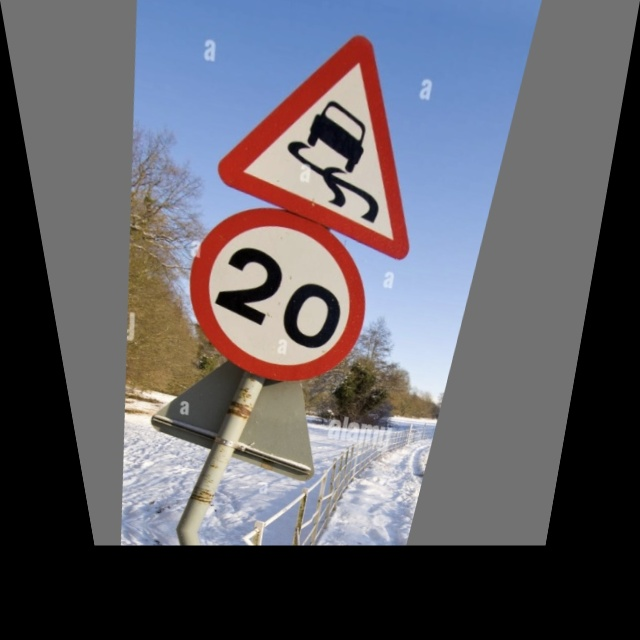Slippery_Road: (207, 14, 446, 248)
